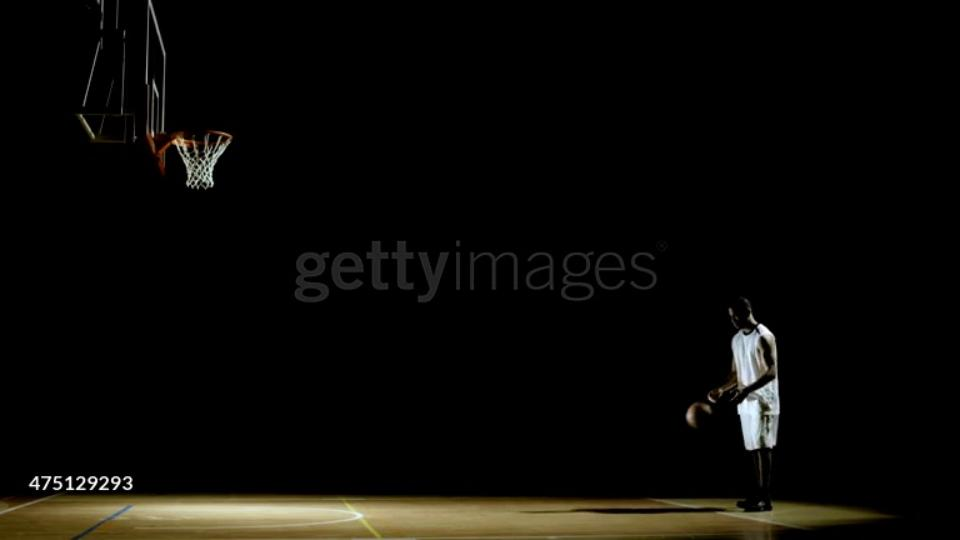hoop: (153, 130, 238, 153)
